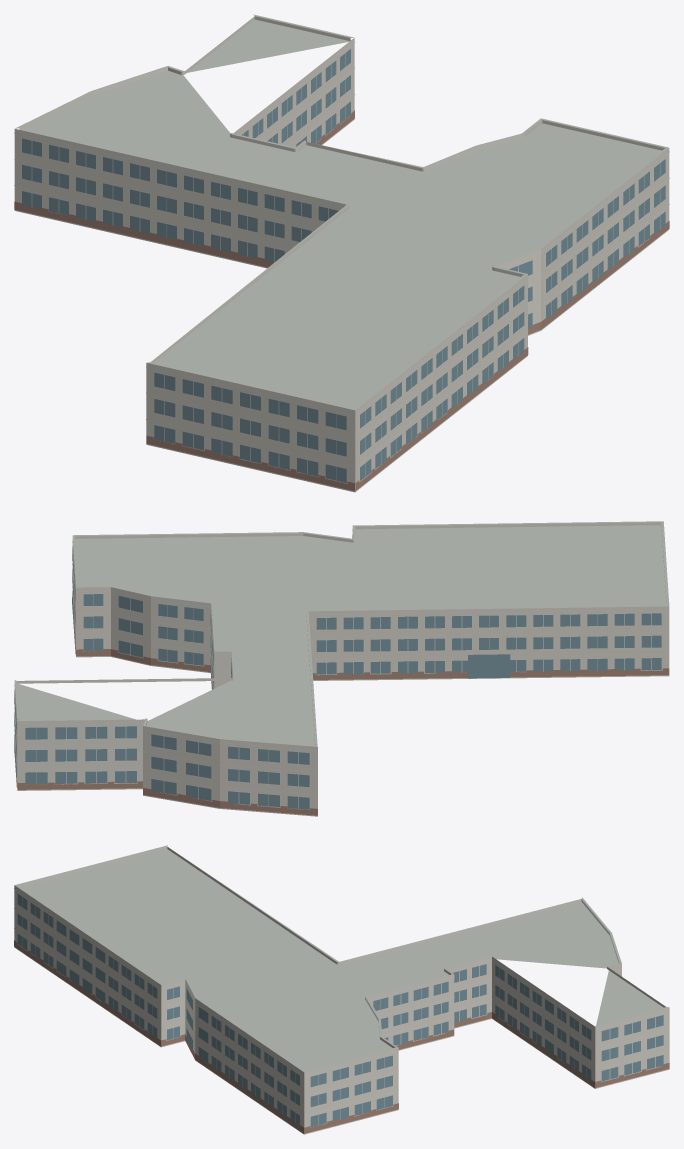
Rendered from public-dc846e1e-9a23-4a7d-bf7f-dcc803bfa9a3.glb.
The picture shows the model from 3 angles, top to bottom: view 1: azimuth 30°, elevation 25°; view 2: azimuth 150°, elevation 25°; view 3: azimuth 270°, elevation 25°; orthographic projection. The views are drawn at different scales.
Parts seen in each view (by area): view 1: public-dc846e1e-9a23-4a7d-bf7f-dcc803bfa9a3; view 2: public-dc846e1e-9a23-4a7d-bf7f-dcc803bfa9a3; view 3: public-dc846e1e-9a23-4a7d-bf7f-dcc803bfa9a3.
Boxes of the visible parts, x1,y1,x2,y2 form: public-dc846e1e-9a23-4a7d-bf7f-dcc803bfa9a3: (14, 14, 669, 492); public-dc846e1e-9a23-4a7d-bf7f-dcc803bfa9a3: (14, 521, 669, 816); public-dc846e1e-9a23-4a7d-bf7f-dcc803bfa9a3: (14, 845, 669, 1134).
Size of the model in its own units: 71.57 by 9.15 by 87.22.
